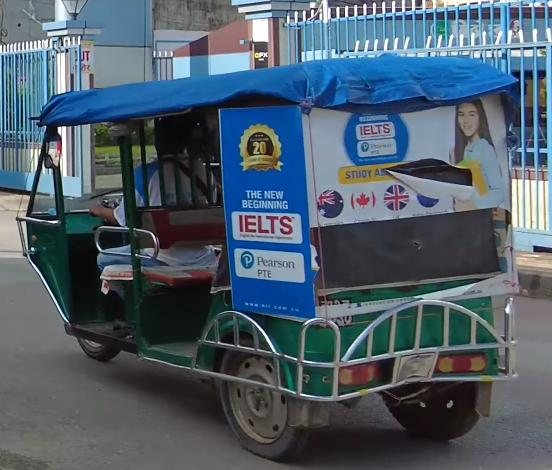e-rickshaw: (15, 48, 523, 465)
